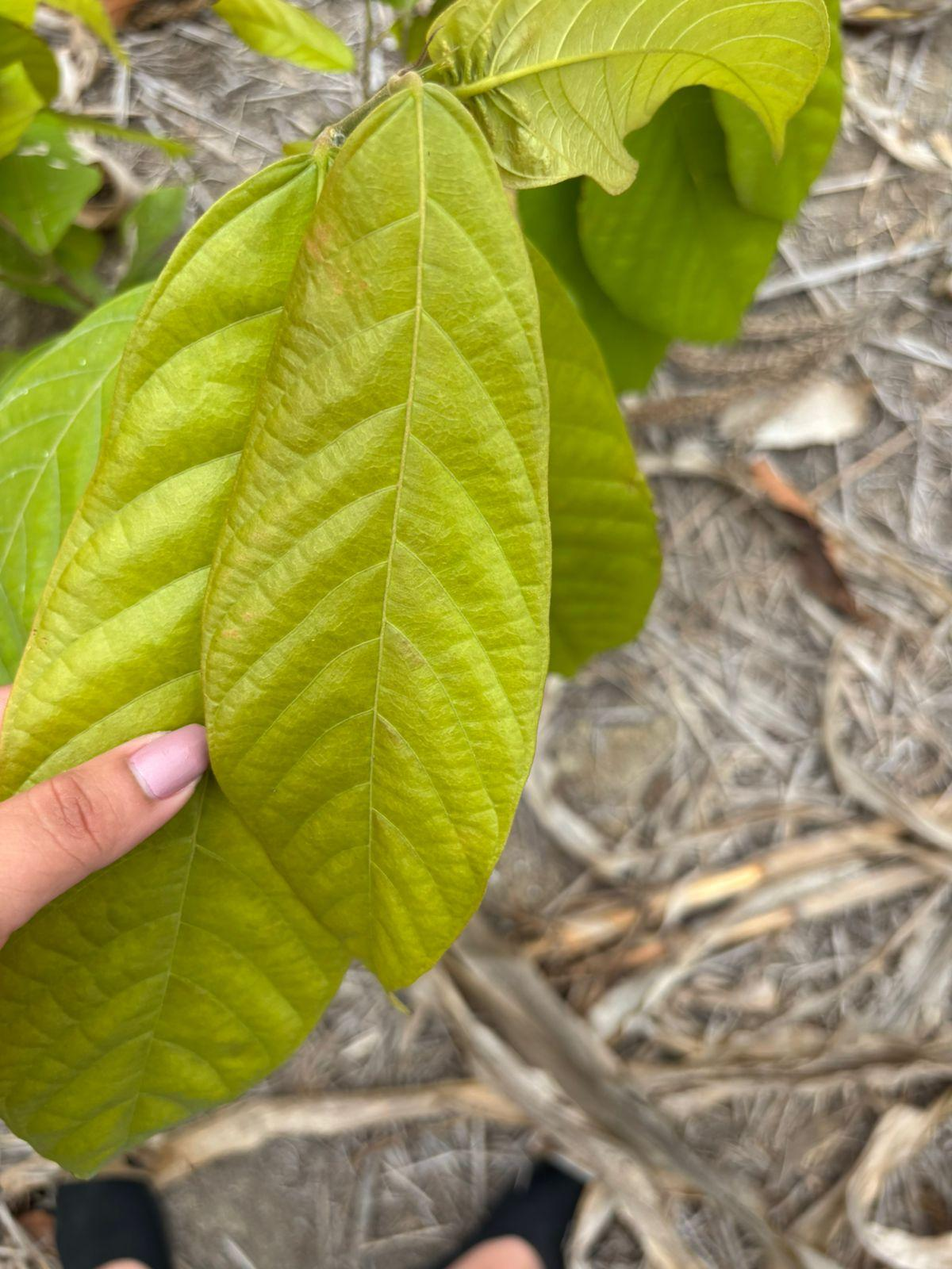Nitrogeno: (201, 77, 550, 989)
